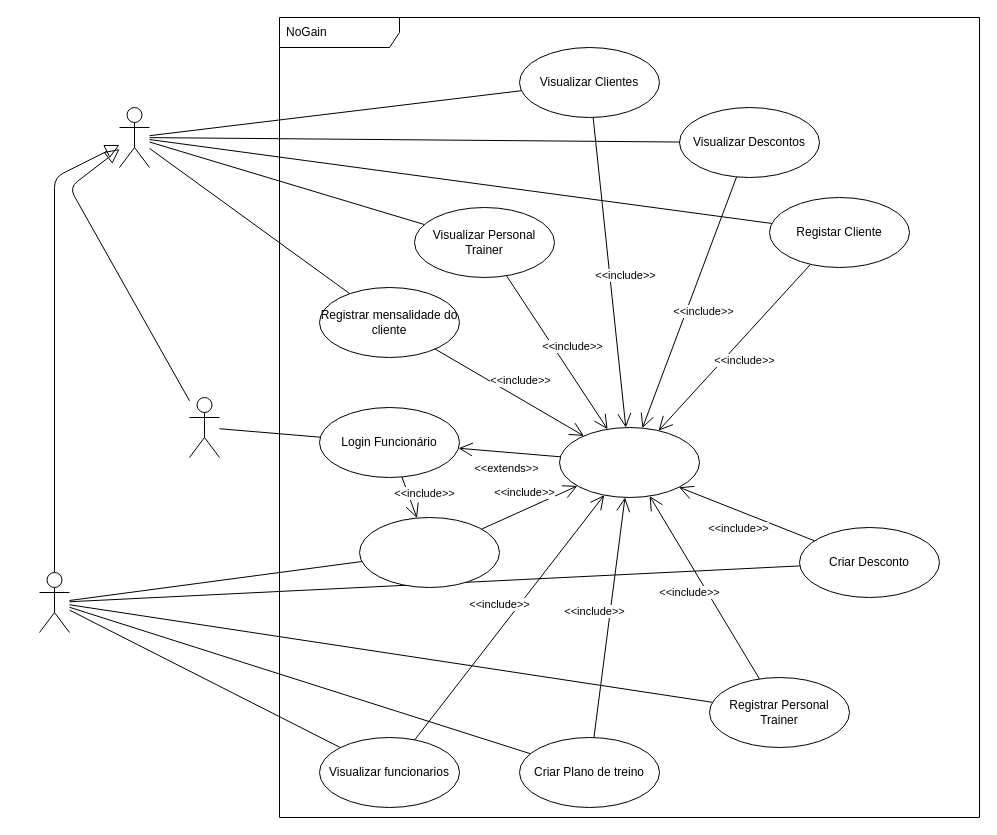
Some shapes in this 997 by 835 pixel diagram are drawn without their labels. The box of each missing label's shape, as (x1, y1, x2, y2) in pixels:
A01 - Pessoa: (118, 106, 150, 168)
A02 - Gerente: (38, 572, 70, 632)
A03 - Funcionário: (188, 396, 220, 458)
Login: (558, 426, 700, 498)
Registrar Funcionario: (358, 516, 500, 588)
